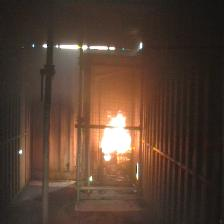fire: (90, 105, 136, 160)
